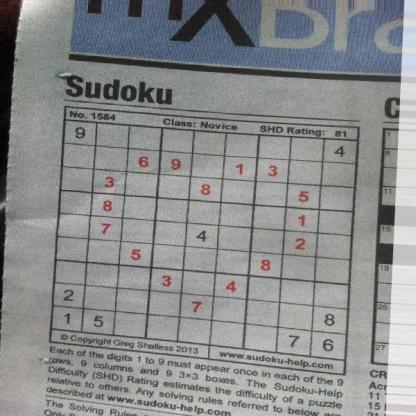sudoku: (49, 115, 361, 364)
